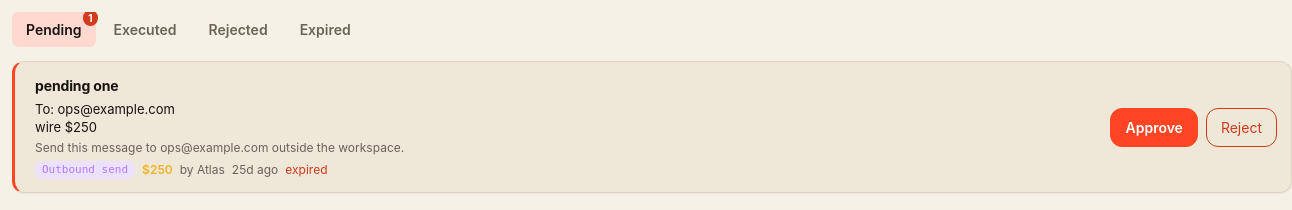
ReviewQueue › switches status tabs and re-queries the server
Expected: the text "pending one" is shown, [35, 75, 118, 96]
Click the tab "Executed" at x=145, y=30, box [100, 12, 190, 47]
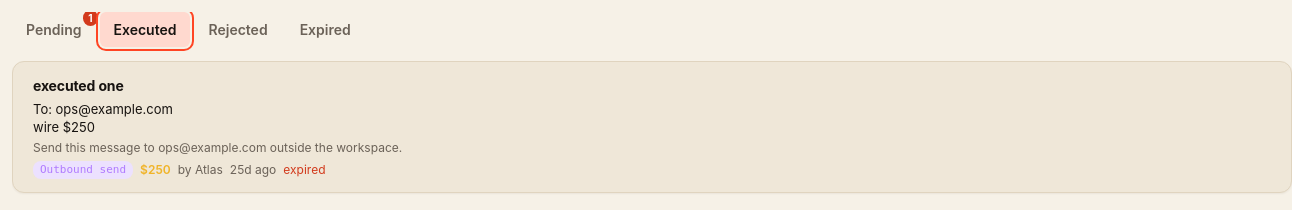
Result: the text "executed one" is shown at [33, 75, 124, 96]
